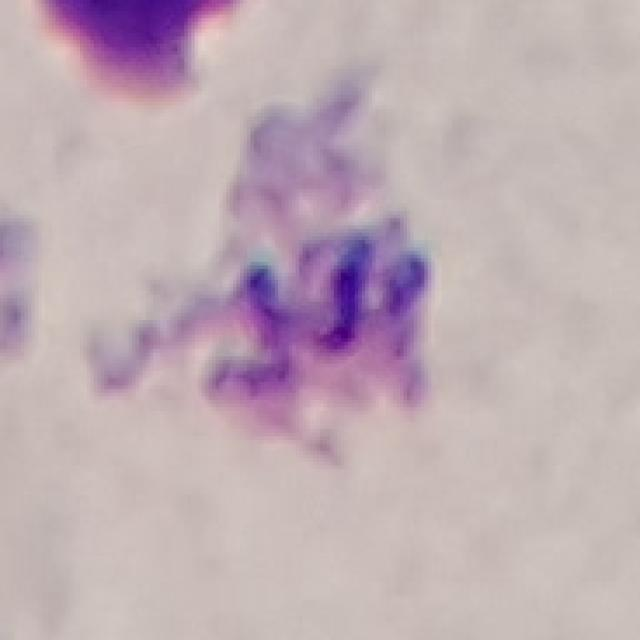non-sperm: (100, 104, 428, 436)
